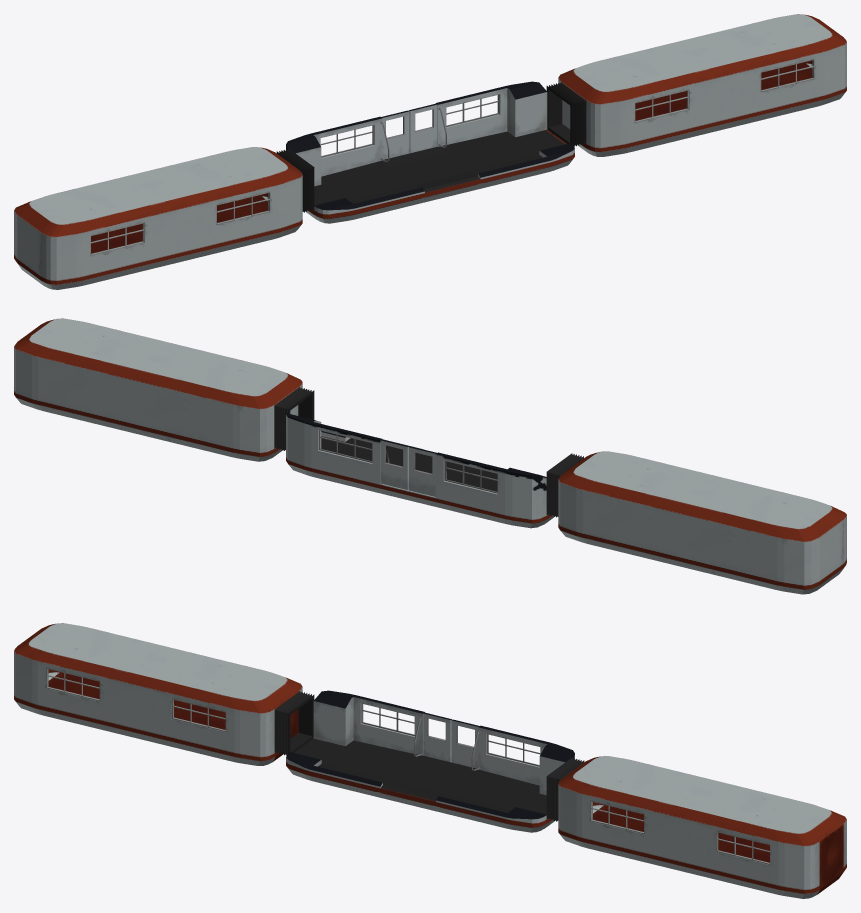
Rendered from Train.fbx.
The picture shows the model from 3 angles, top to bottom: view 1: azimuth 30°, elevation 25°; view 2: azimuth 150°, elevation 25°; view 3: azimuth 330°, elevation 25°; orthographic projection.
Parts seen in each view (by area): view 1: Train_mesh; view 2: Train_mesh; view 3: Train_mesh.
Boxes of the visible parts, left/top/right/bottom form: Train_mesh: left=14, top=14, right=846, bottom=289; Train_mesh: left=14, top=318, right=846, bottom=594; Train_mesh: left=14, top=623, right=846, bottom=898.
Size of the model in its own units: 5784 by 426 by 560.
